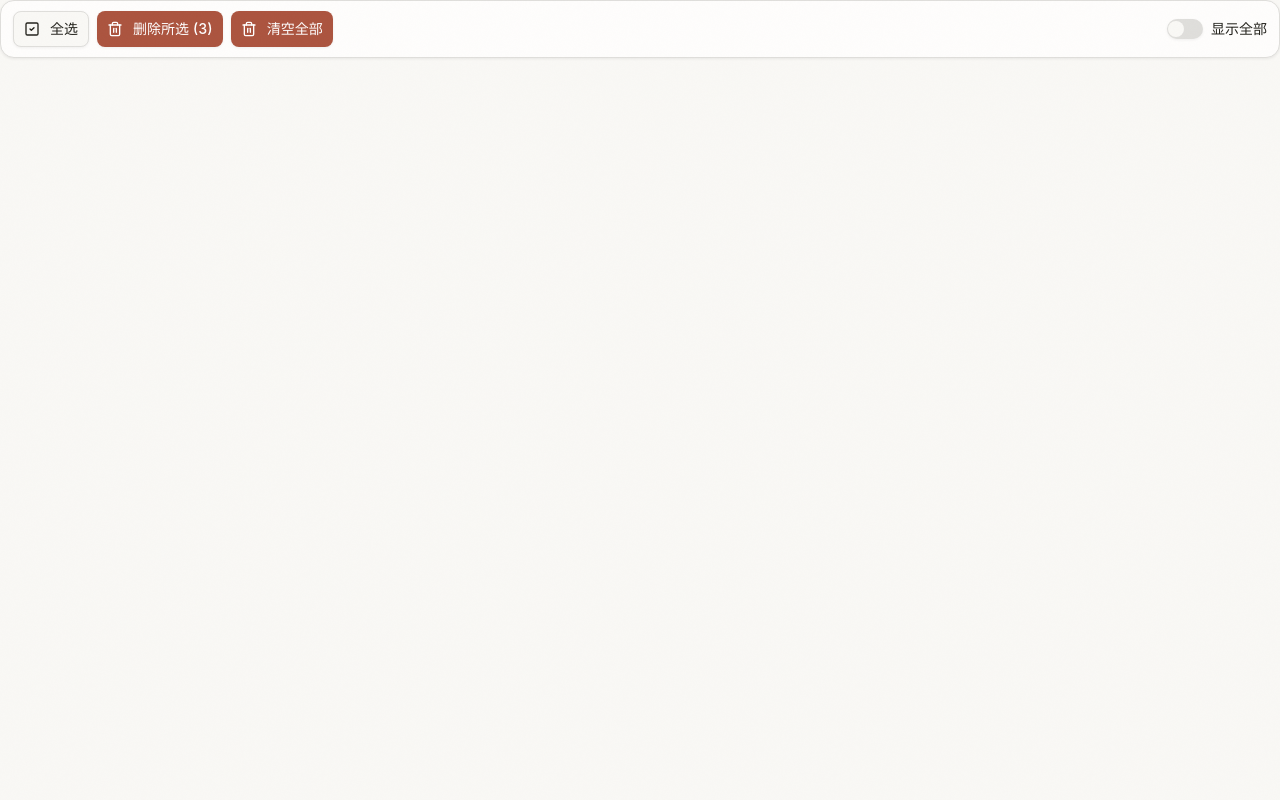
LogsActionsBar 删除所选确认流程 › 点「删除所选」只弹确认框，不直接触发删除
Click the button "删除所选 (3)".
click(160, 29)  # box [97, 11, 223, 47]
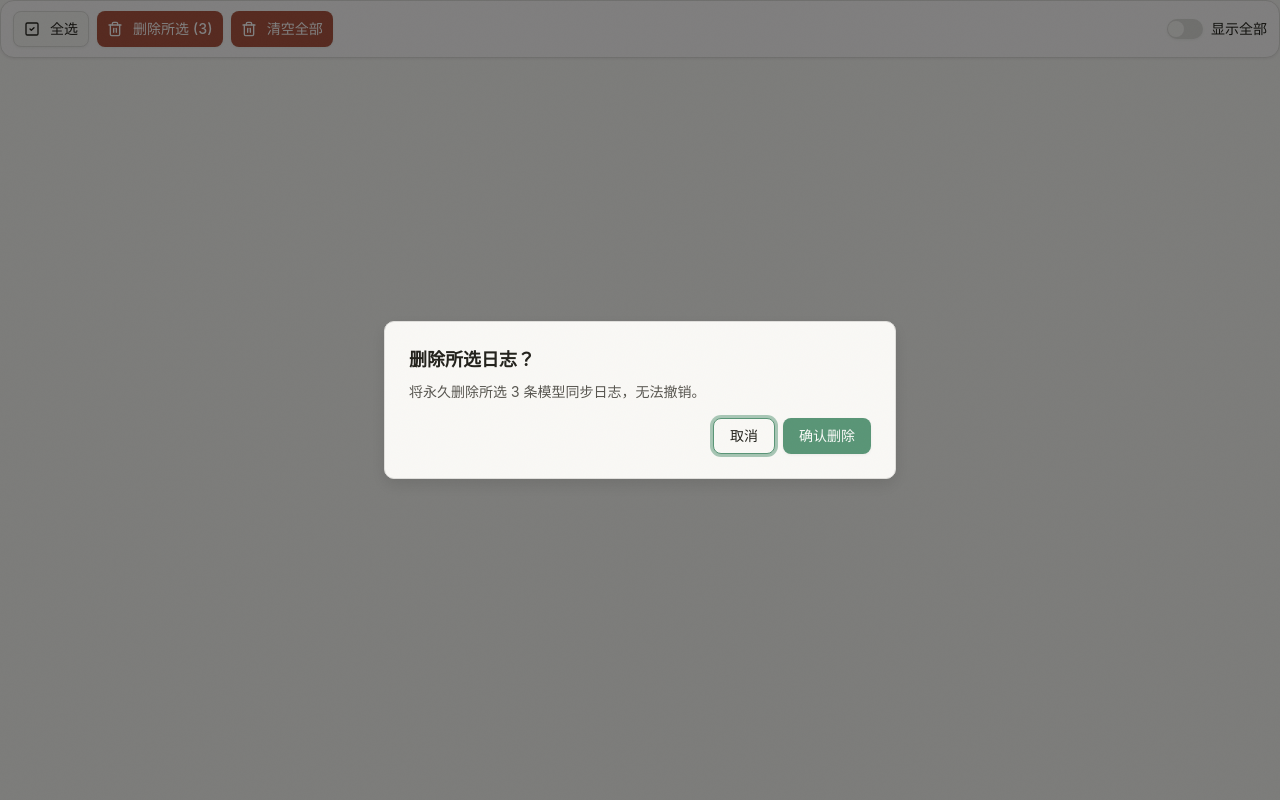
Expected: the heading "删除所选日志？" is shown, [409, 349, 535, 370]
